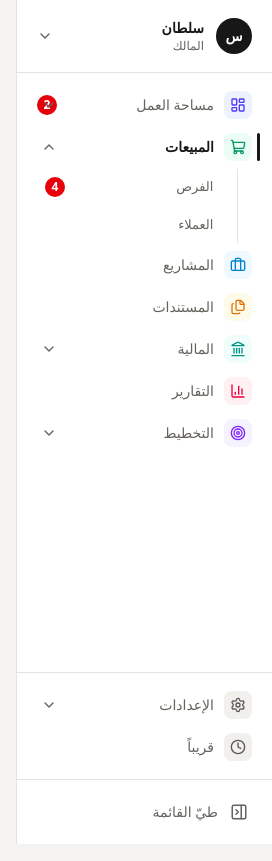
Test: Sidebar › opens the current section into its pages and marks the open one
Check: the link "مهامي" is not shown
Click the button named "فتح مساحة العمل": (49,105) [33,89,65,121]
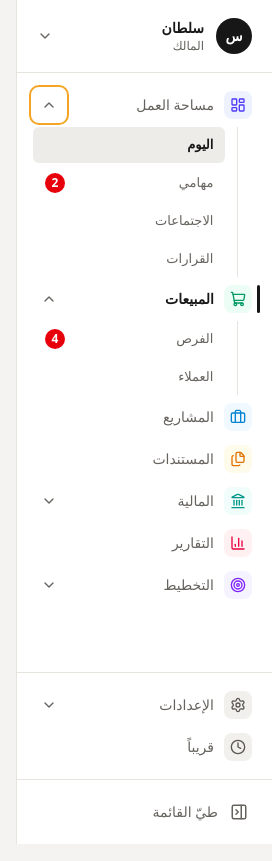
Click the button named "طيّ المبيعات": (49,299) [33,283,65,315]
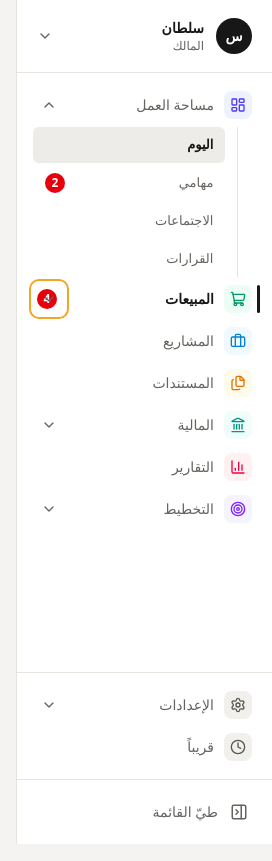
Check: the link "العملاء" is gone
